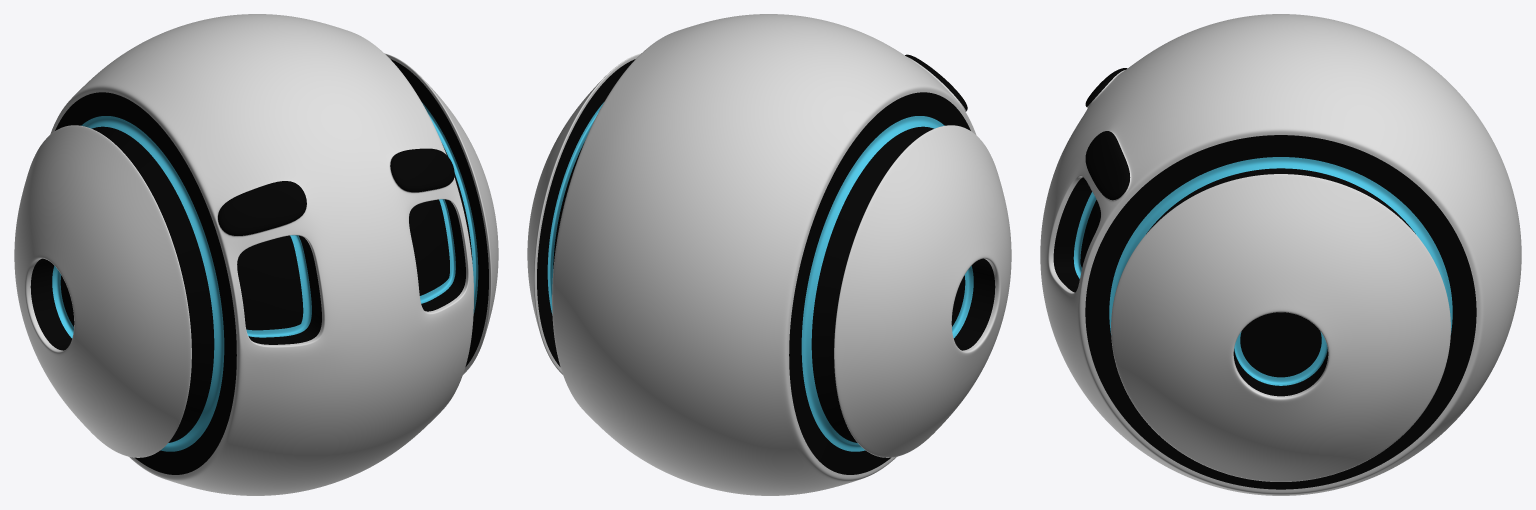
Rendered from ROBOT_Sphere.fbx.
3 renders of one model, left to right at view 1: azimuth 30°, elevation 25°; view 2: azimuth 150°, elevation 25°; view 3: azimuth 270°, elevation 25°, orthographic.
Parts seen in each view (by area): view 1: Sphere; view 2: Sphere; view 3: Sphere.
Part boxes in pixels (left/top/right/bottom): Sphere: left=14, top=14, right=498, bottom=495; Sphere: left=527, top=14, right=1011, bottom=495; Sphere: left=1040, top=14, right=1521, bottom=495.
Size of the model in its own units: 195 by 197 by 197.
